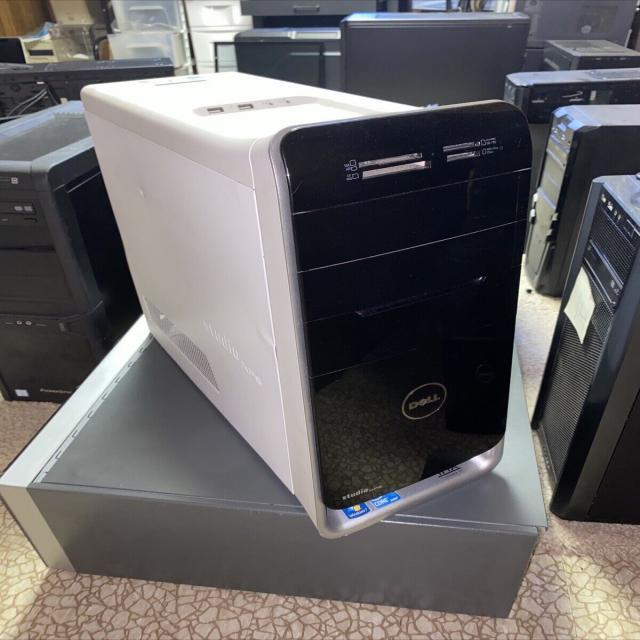Desktop-PC: (96, 64, 542, 546), (528, 178, 640, 530), (1, 112, 108, 394)
